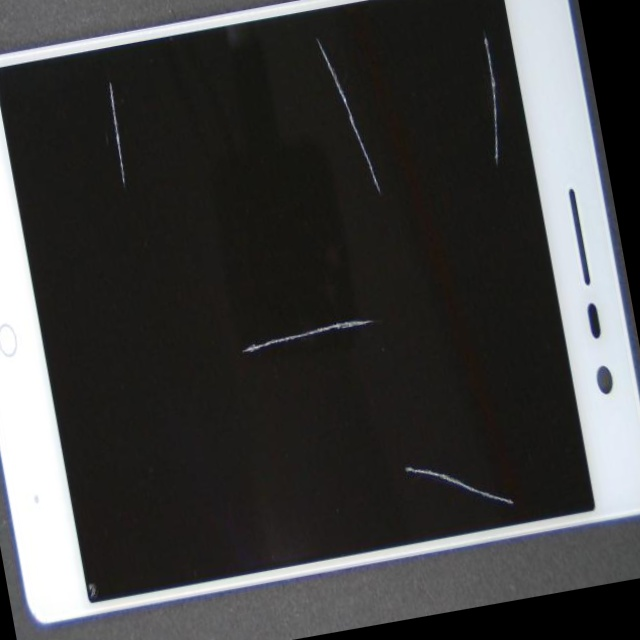scratch: (270, 208, 640, 632), (221, 96, 548, 506), (195, 0, 601, 194), (193, 125, 604, 277), (2, 0, 208, 204)
